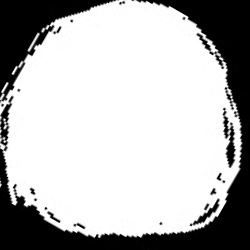spot: (2, 1, 242, 236)
